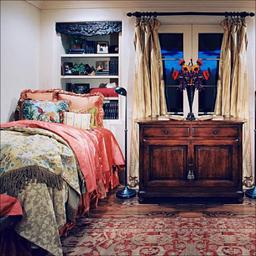Cama: (4, 90, 120, 245)
Ventana: (139, 21, 241, 116)
